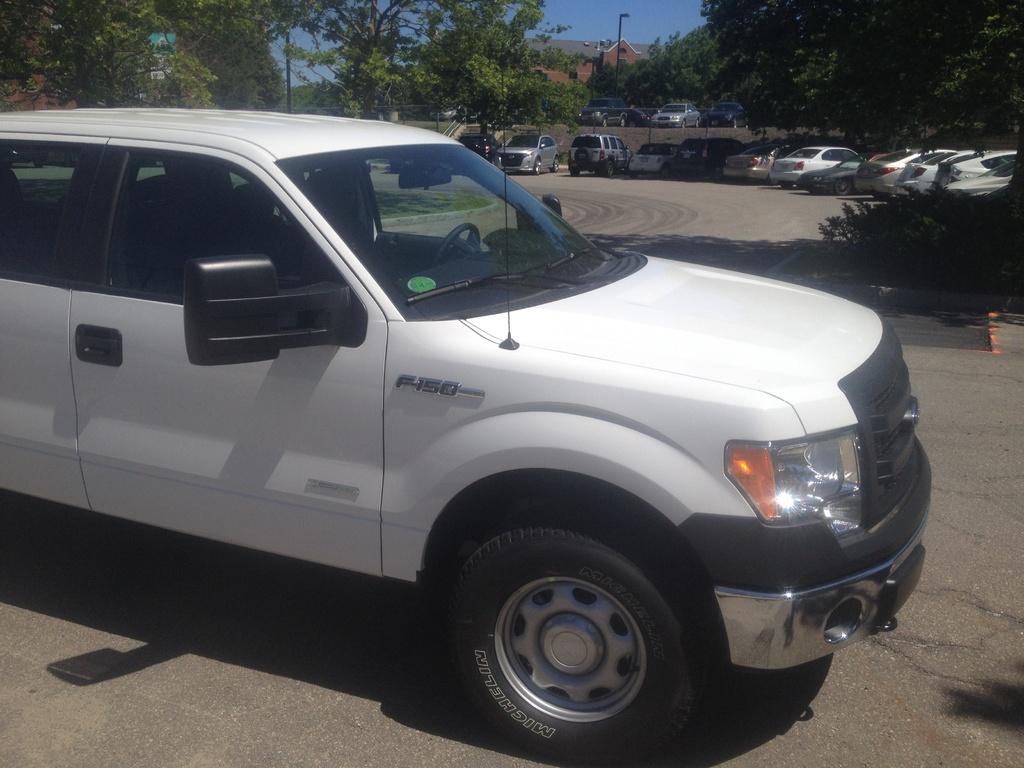Car: (0, 62, 932, 768), (568, 138, 1017, 197), (492, 133, 561, 172), (570, 96, 624, 126), (642, 101, 700, 126), (456, 129, 501, 161), (697, 99, 747, 126)
